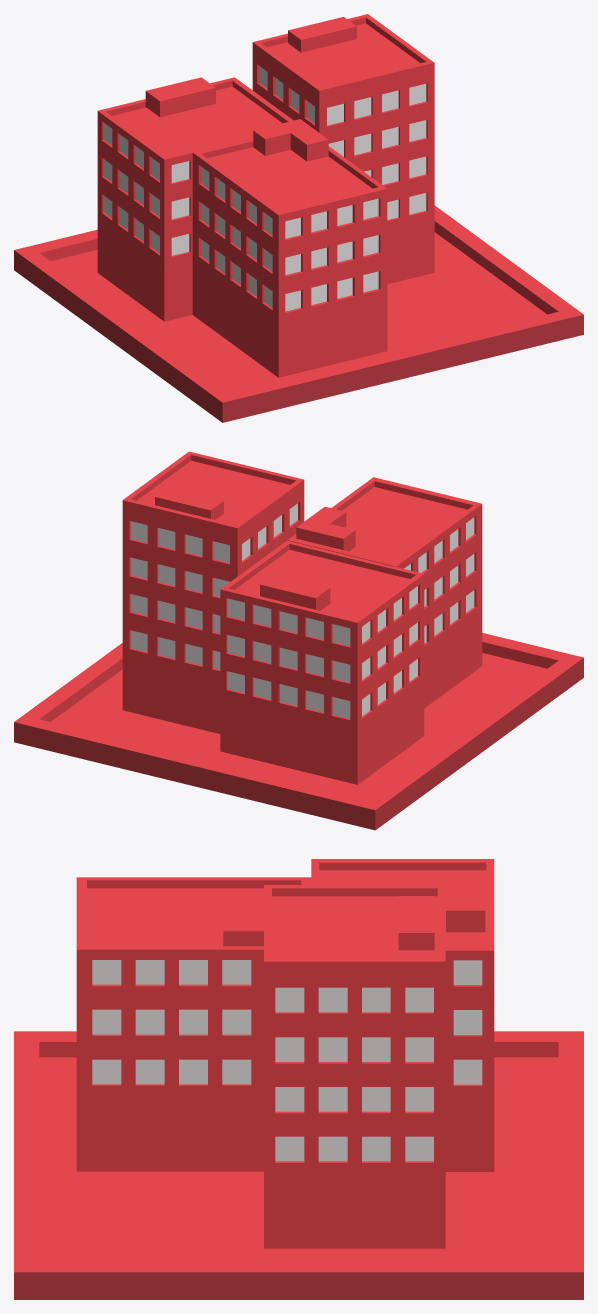
File: redapartmentlevel1 (1).fbx
3 renders of one model, top to bottom at view 1: azimuth 30°, elevation 25°; view 2: azimuth 150°, elevation 25°; view 3: azimuth 270°, elevation 25°, orthographic. The views are drawn at different scales.
Parts seen in each view (by area): view 1: aparmantbasered, build2red, build1red, build3red, build2light2red, build2light3red, build2light1red, build1light4red, build1light3red, build3light2red, build3light3red, build3light1red (+2 smaller); view 2: build3red, aparmantbasered, build1red, build2red, build3light2red, build3light3red, build3light1red, build1light4red, build1light3red, build1light1red, build1light2red, build2light3red (+2 smaller); view 3: aparmantbasered, build1red, build2red, build3red, build2light2red, build2light1red, build1light4red, build1light1red, build2light3red, build1light3red, build1light2red, build3light1red (+2 smaller).
Boxes of the visible parts, x1,y1,x2,y2 form: aparmantbasered: (14,205,583,422); build2red: (192,119,387,377); build1red: (252,14,434,284); build3red: (97,77,293,321); build2light2red: (201,203,378,274); build2light3red: (201,166,378,238); build2light1red: (201,239,378,311); build1light4red: (259,66,426,125); build1light3red: (328,120,426,156); build3light2red: (104,159,189,219); build3light3red: (104,123,189,182); build3light1red: (104,196,189,255); build3red: (220,540,424,784); aparmantbasered: (14,633,583,830); build1red: (122,451,304,733); build2red: (287,477,482,708); build3light2red: (227,622,417,682); build3light3red: (227,586,417,645); build3light1red: (227,659,417,718); build1light4red: (130,503,297,562); build1light3red: (130,557,229,596); build1light1red: (130,630,220,669); build1light2red: (130,594,220,633); build2light3red: (404,517,474,572); aparmantbasered: (14,1031,583,1299); build1red: (264,885,445,1248); build2red: (76,877,311,1171); build3red: (311,859,494,1171); build2light2red: (92,1009,251,1034); build2light1red: (92,1059,251,1084); build1light4red: (275,987,433,1012); build1light1red: (275,1136,433,1161); build2light3red: (92,960,251,984); build1light3red: (275,1037,433,1061); build1light2red: (275,1087,433,1111); build3light1red: (453,1059,482,1084).
Size of the model in its own units: 568 by 340 by 568.
